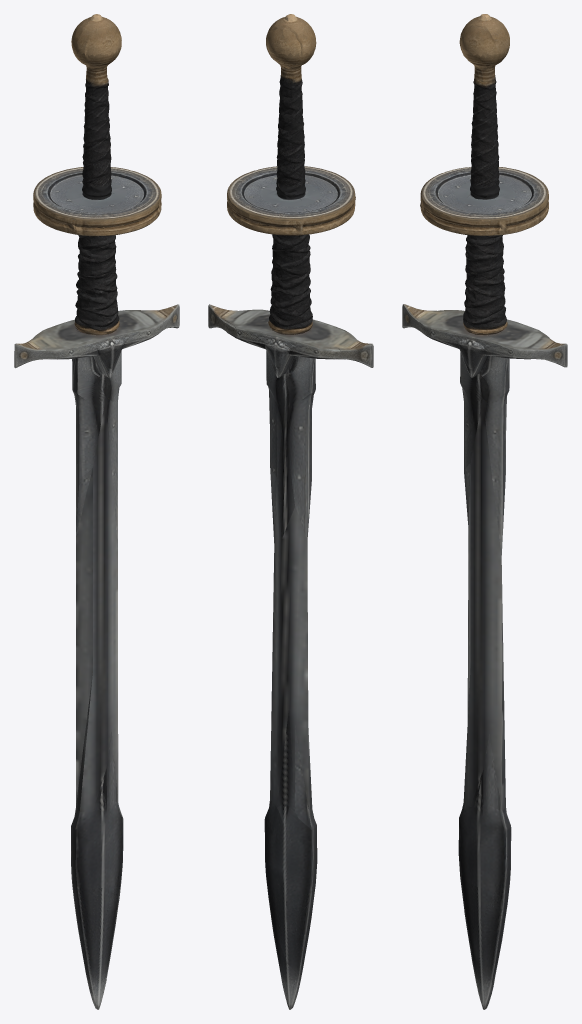
File: Meshy_AI_Weapon_human_longsword_01a0e88a_texture.glb
3 views of the same model, side by side, from view 1: azimuth 30°, elevation 25°; view 2: azimuth 150°, elevation 25°; view 3: azimuth 330°, elevation 25° (orthographic).
Size of the model in its own units: 0.3308 by 1.9 by 0.2235.
Materials: 1 (1 with a texture image).
